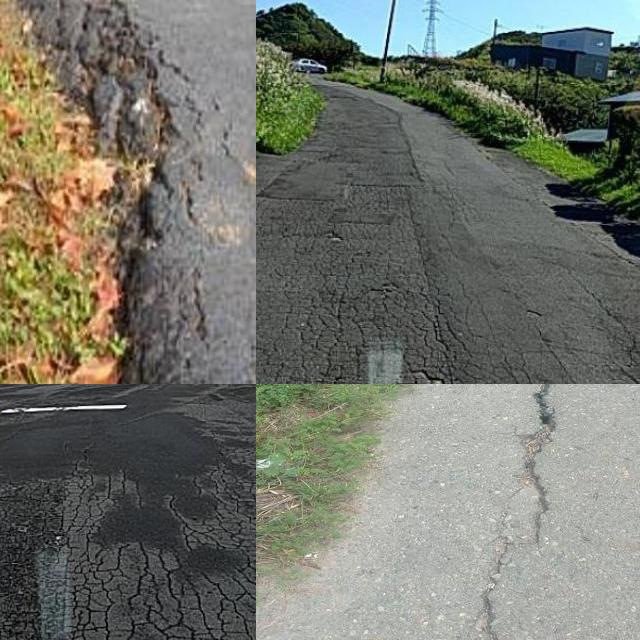Memanjang: (430, 384, 571, 640)
Pinggir: (0, 0, 256, 384)
Retak Buaya: (57, 478, 256, 640), (256, 231, 460, 384)
